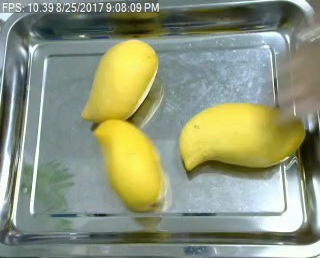Mango: (178, 103, 306, 177), (90, 117, 165, 212), (80, 39, 159, 123)
